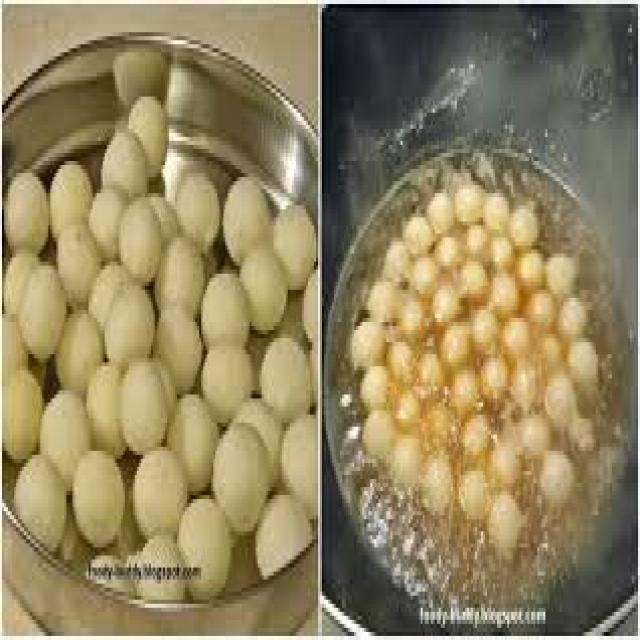paal kolukattai: (356, 152, 615, 571)
